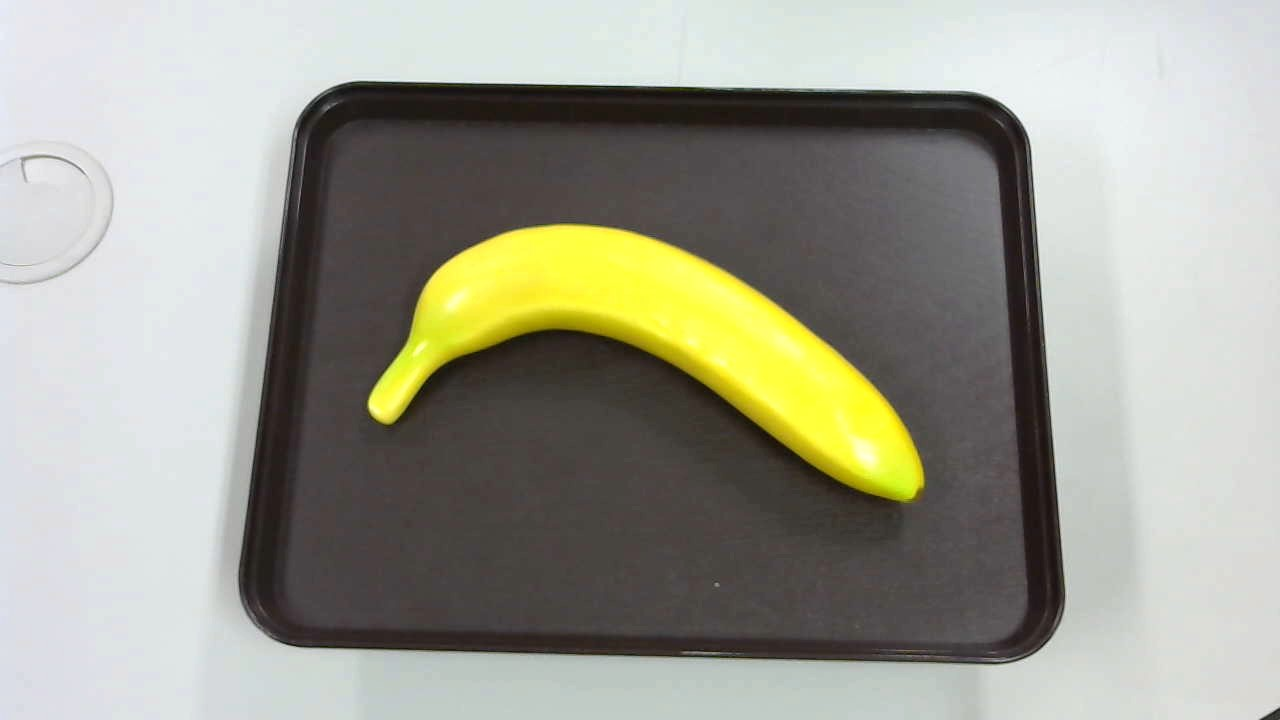banana: (359, 219, 929, 529)
